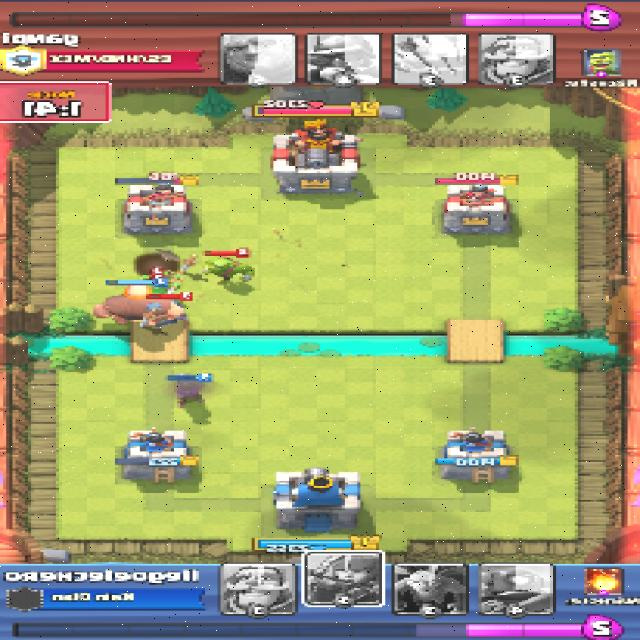Enemy-MiniPEKKA: (146, 301, 188, 326)
Enemy-SpearGoblin: (145, 277, 180, 296), (138, 271, 184, 281)
Player-Giant: (91, 285, 185, 326)
Player-GoblinCage: (198, 253, 256, 285)
Player-Musketeer: (172, 372, 208, 403)
